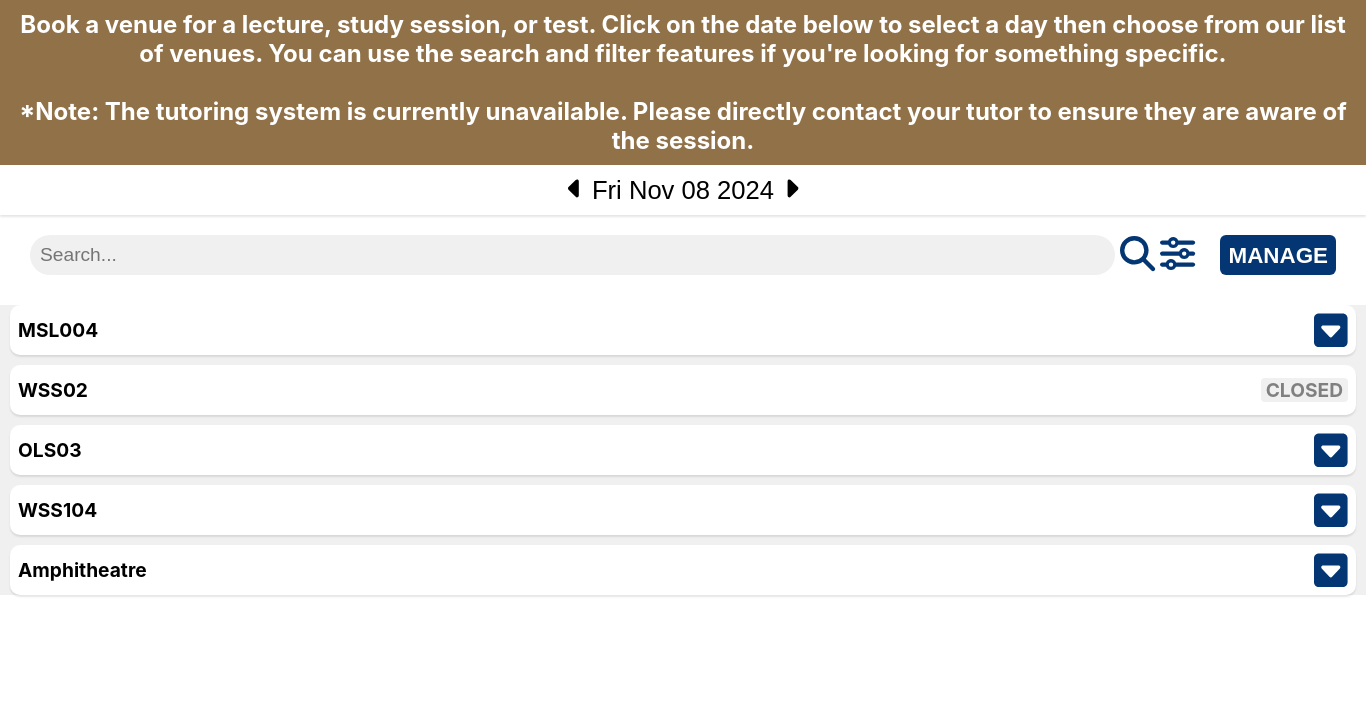
Test: Venues › Renders Subsequent Buttons When Admin Enters Manage Mode
Click the button "MANAGE".
click(1278, 255)  # box [1220, 235, 1336, 275]
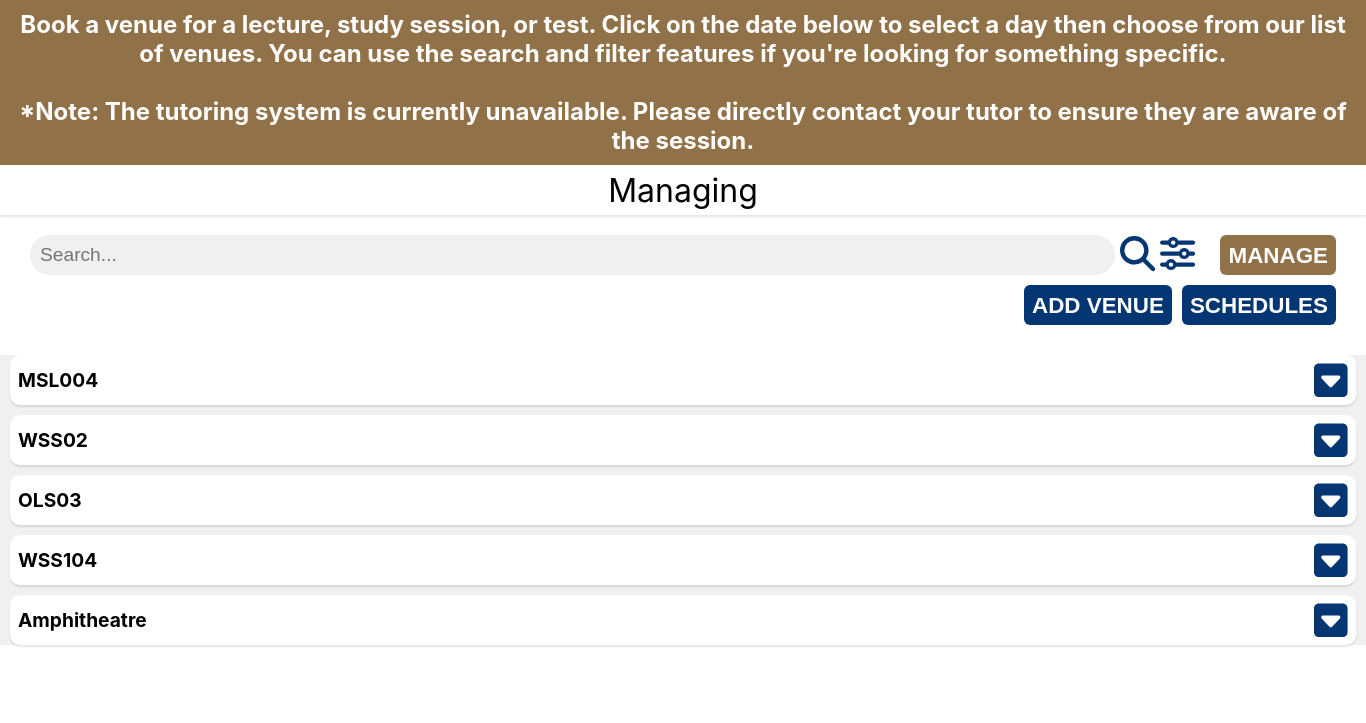
Result: the button "ADD VENUE" is shown at [1024, 285, 1172, 325]
Result: the button "SCHEDULES" is shown at [1182, 285, 1336, 325]
Click the heading "MSL004".
click(58, 380)  # box [18, 368, 98, 392]
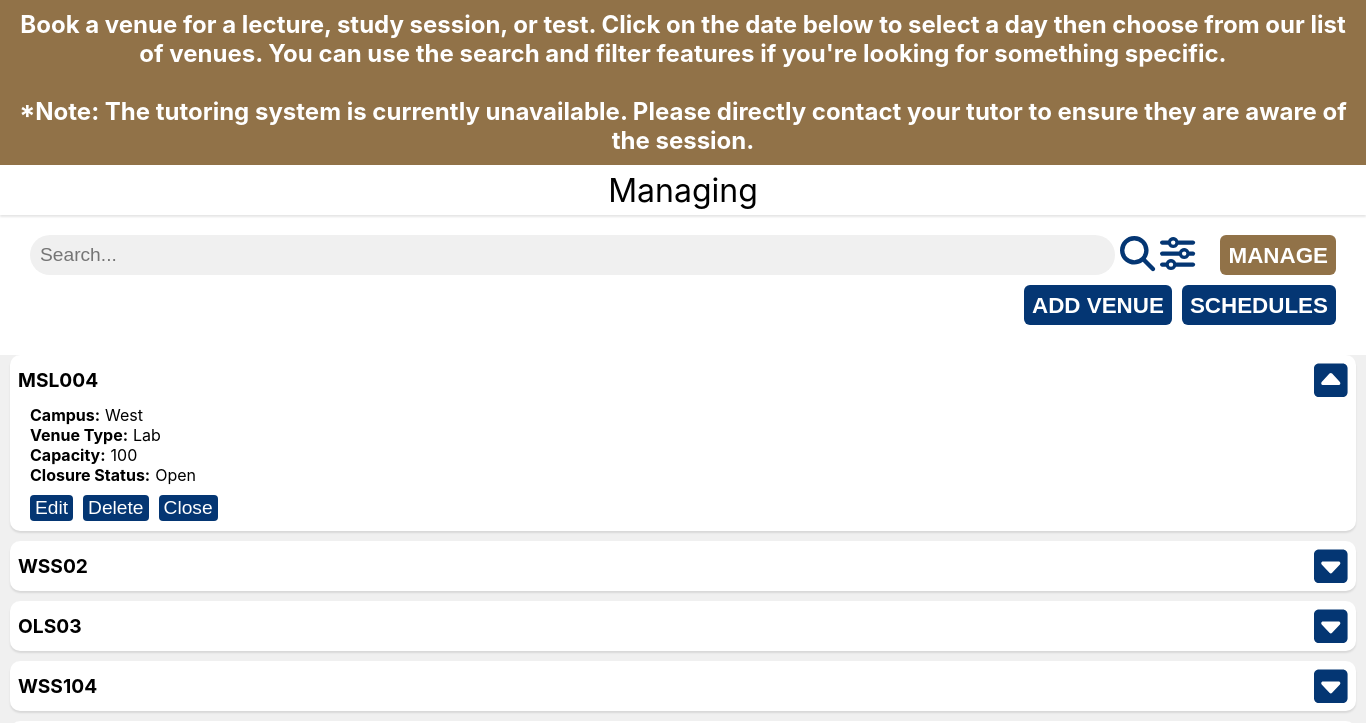
Result: the number of buttons "Edit" is 5
Result: the number of buttons "Delete" is 5
Result: the number of buttons "Close" is 4
